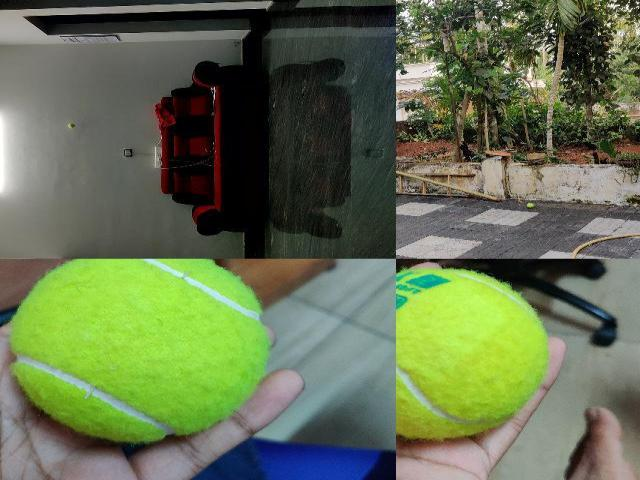tennis-ball: (10, 258, 269, 442), (396, 269, 549, 438), (526, 203, 534, 208), (68, 124, 74, 128)
